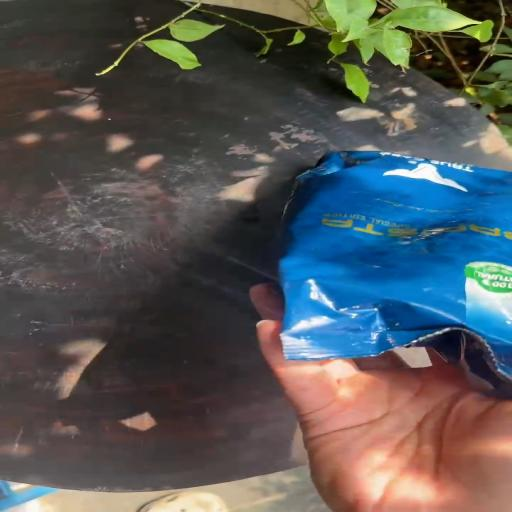cafe_hat: (279, 151, 511, 395)
